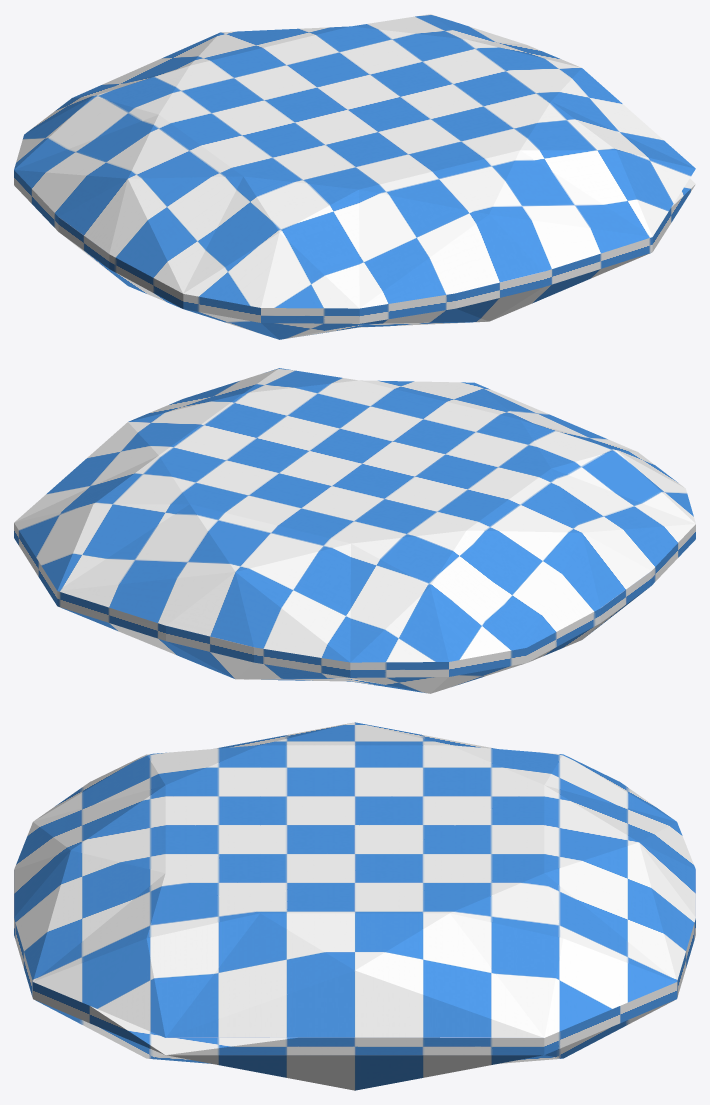
File: CushionCutDouble.FBX
3 renders of one model, top to bottom at view 1: azimuth 30°, elevation 25°; view 2: azimuth 150°, elevation 25°; view 3: azimuth 270°, elevation 25°, orthographic. The views are drawn at different scales.
Visible parts, largest first — view 1: CushionCutDouble; view 2: CushionCutDouble; view 3: CushionCutDouble.
Boxes of the visible parts, box(x1,y1,x2,y2) form: CushionCutDouble: box(14, 14, 695, 339); CushionCutDouble: box(14, 368, 695, 693); CushionCutDouble: box(14, 722, 695, 1090).
Size of the model in its own units: 1.14 by 0.2858 by 1.14.
